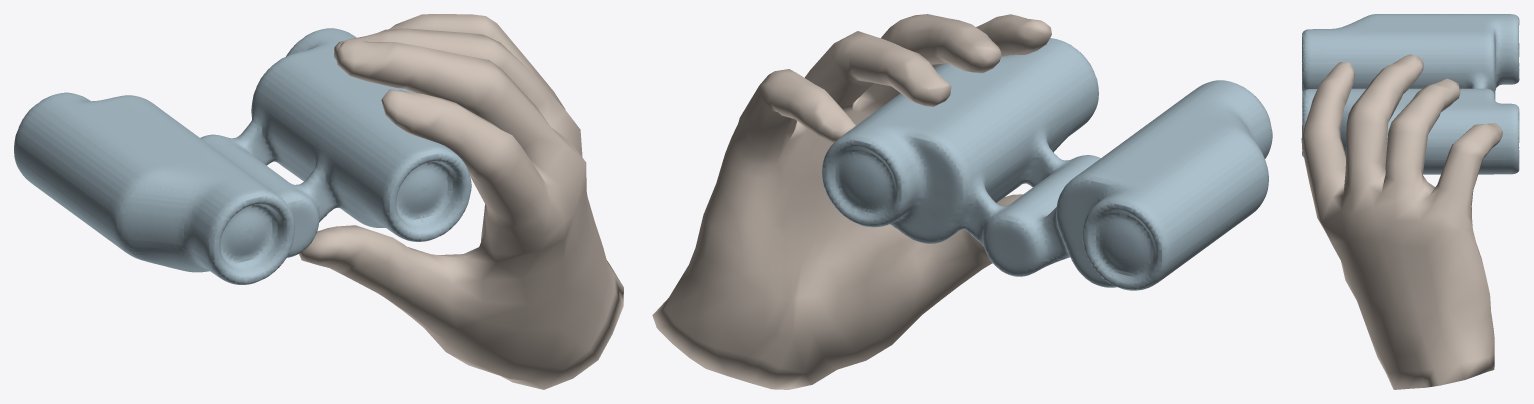
Rendered from ours_3.glb.
3 renders of one model, left to right at view 1: azimuth 30°, elevation 25°; view 2: azimuth 150°, elevation 25°; view 3: azimuth 270°, elevation 25°, orthographic. The views are drawn at different scales.
Bounding box in the file's own units: 0.2251 × 0.1486 × 0.1092.
